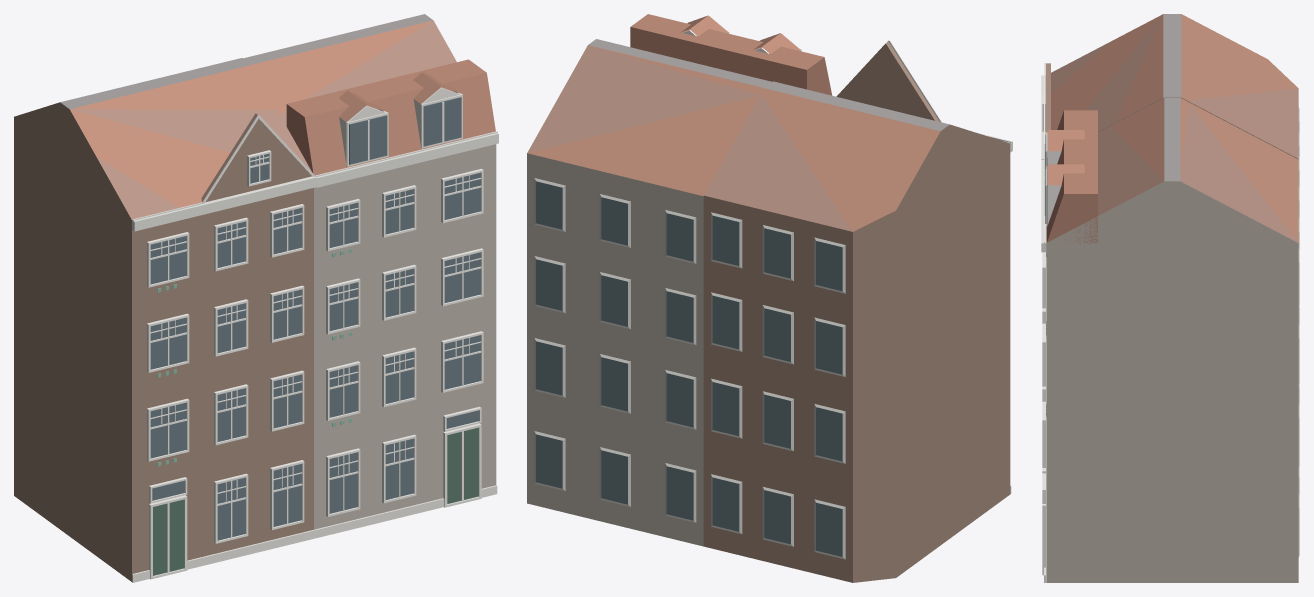
Rendered from chunk-face-effen-2-12-r1.glb.
3 renders of one model, left to right at view 1: azimuth 30°, elevation 25°; view 2: azimuth 150°, elevation 25°; view 3: azimuth 270°, elevation 25°, orthographic. The views are drawn at different scales.
Parts seen in each view (by area): view 1: face-effen-2-12-r1; view 2: face-effen-2-12-r1; view 3: face-effen-2-12-r1.
Boxes of the visible parts, x1=… form: face-effen-2-12-r1: x1=14, y1=14, x2=498, y2=582; face-effen-2-12-r1: x1=527, y1=14, x2=1012, y2=582; face-effen-2-12-r1: x1=1041, y1=14, x2=1299, y2=582.
Size of the model in its own units: 13.88 by 15.91 by 9.07.
